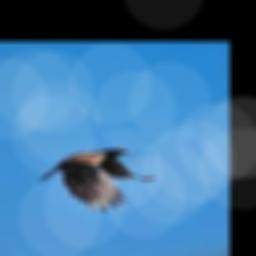Crow: (38, 148, 157, 211)
